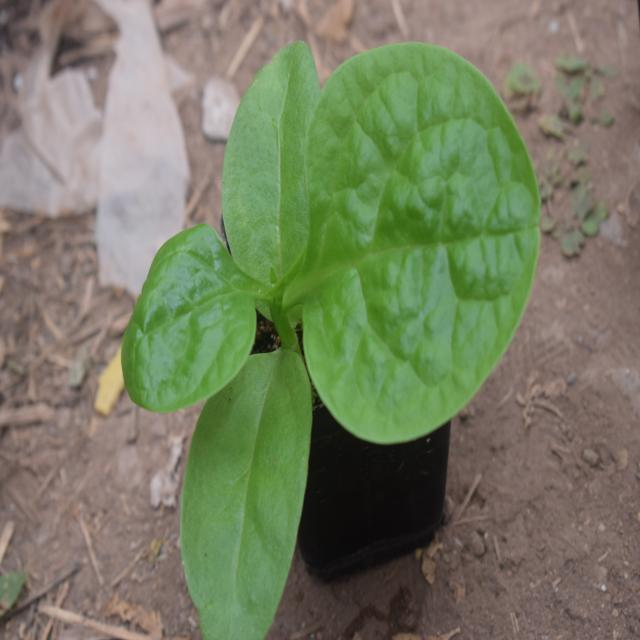Ceylon spinach: (87, 28, 530, 608)
